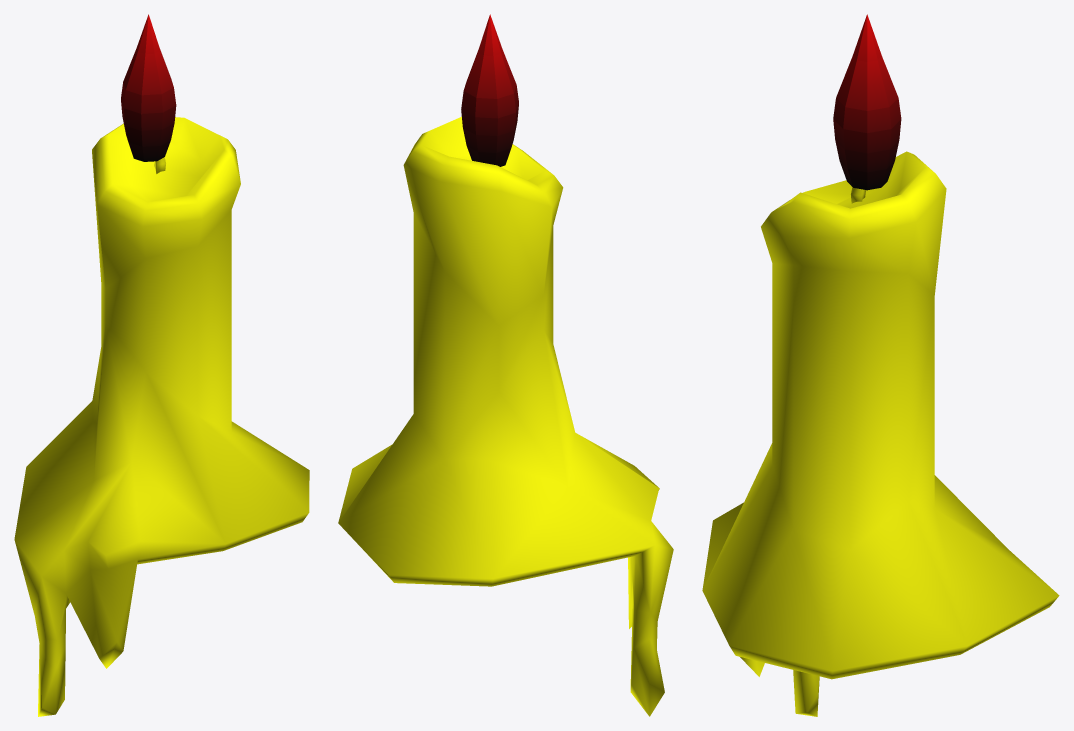
File: Candle_D.fbx
3 views of the same model, side by side, from view 1: azimuth 30°, elevation 25°; view 2: azimuth 150°, elevation 25°; view 3: azimuth 270°, elevation 25° (orthographic). The views are drawn at different scales.
Visible parts, largest first — view 1: U_Candle_D, Fire; view 2: U_Candle_D, Fire; view 3: U_Candle_D, Fire.
Part boxes in pixels (box(x1,y1,x2,y2)): U_Candle_D: box(14, 117, 309, 716); Fire: box(121, 14, 176, 161); U_Candle_D: box(338, 116, 673, 716); Fire: box(461, 14, 518, 166); U_Candle_D: box(702, 151, 1059, 716); Fire: box(833, 14, 901, 190).
Size of the model in its own units: 45.21 by 96.83 by 40.22.
